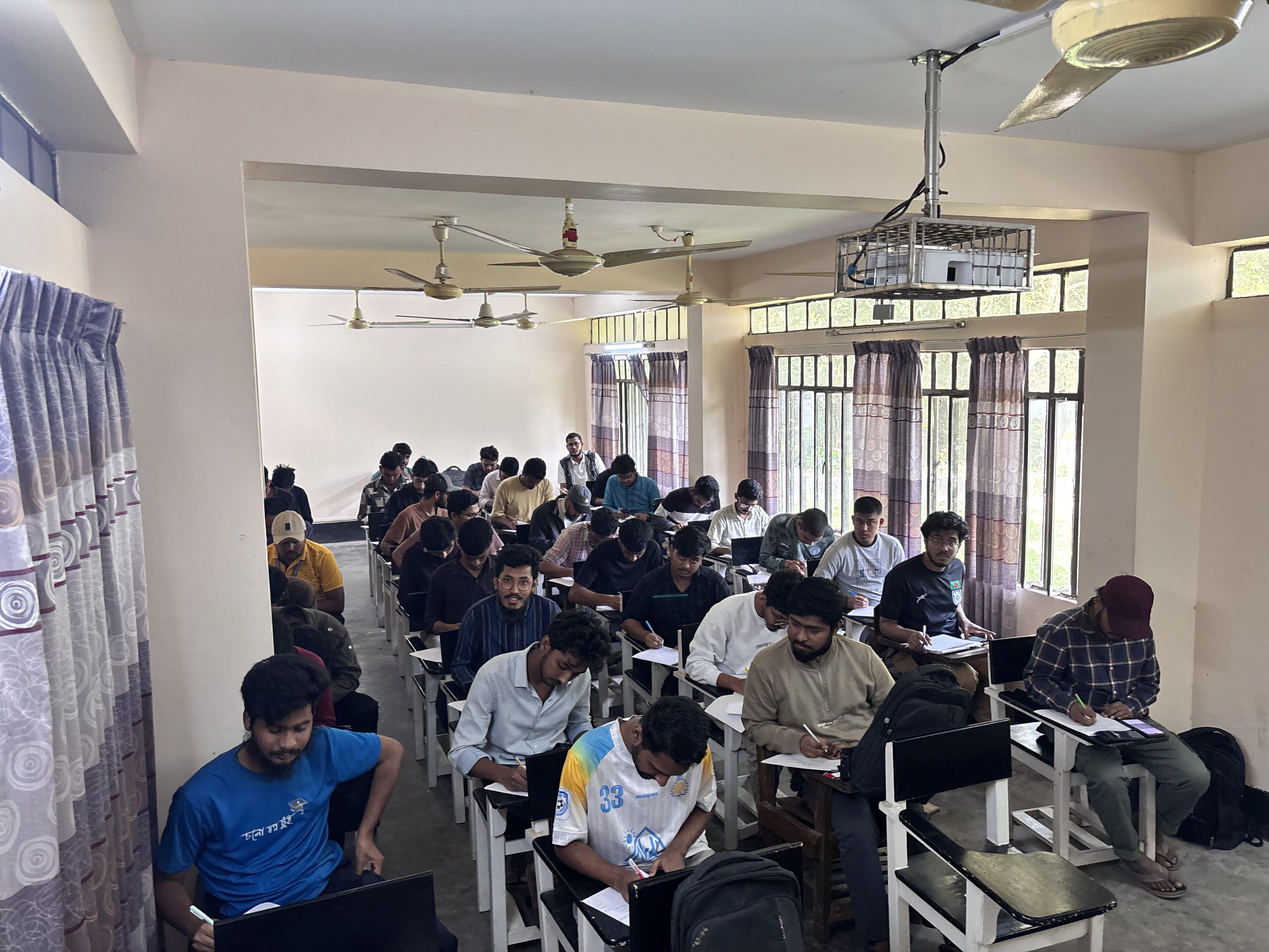copying: (765, 586, 881, 770), (448, 483, 488, 520)
no_cheating: (161, 640, 384, 952), (565, 693, 737, 927), (483, 602, 633, 759), (762, 502, 845, 577), (485, 552, 550, 646), (836, 491, 893, 586), (604, 516, 658, 593), (651, 522, 705, 594), (454, 520, 506, 594), (670, 475, 732, 532), (268, 507, 319, 571), (408, 516, 454, 581), (758, 573, 797, 649), (722, 478, 769, 540), (559, 432, 603, 480), (372, 453, 415, 497), (576, 507, 615, 550), (515, 455, 543, 504), (548, 480, 587, 515), (407, 457, 435, 497), (478, 442, 503, 478)
using_phone: (1045, 561, 1199, 788), (899, 507, 1010, 668), (606, 453, 672, 519)
